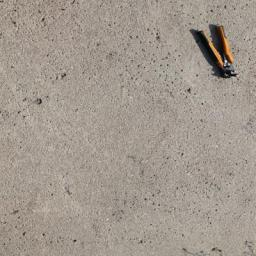FOD: (190, 23, 243, 83)
